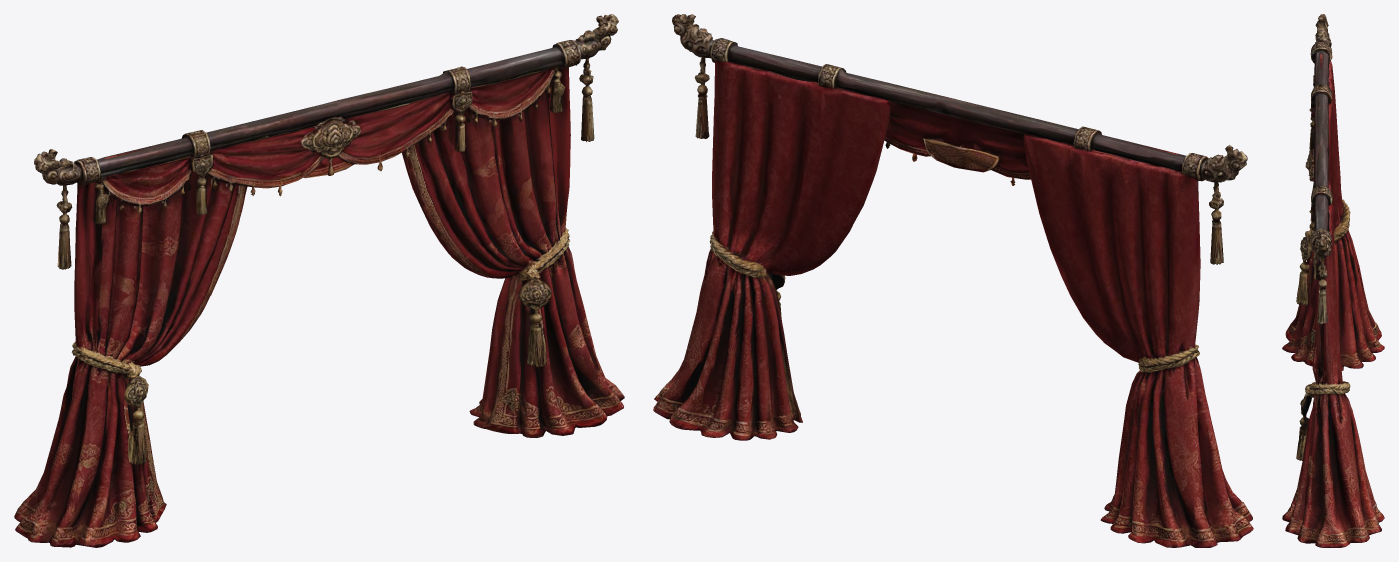
Rendered from curtain.glb.
The picture shows the model from 3 angles, left to right: view 1: azimuth 30°, elevation 25°; view 2: azimuth 150°, elevation 25°; view 3: azimuth 270°, elevation 25°; orthographic projection. The views are drawn at different scales.
Visible parts, largest first — view 1: tripo_node_eba18f53-8707-40f1-8a62-4a77f2cd9b33; view 2: tripo_node_eba18f53-8707-40f1-8a62-4a77f2cd9b33; view 3: tripo_node_eba18f53-8707-40f1-8a62-4a77f2cd9b33.
Part boxes in pixels (x1=…): tripo_node_eba18f53-8707-40f1-8a62-4a77f2cd9b33: x1=14, y1=14, x2=624, y2=547; tripo_node_eba18f53-8707-40f1-8a62-4a77f2cd9b33: x1=653, y1=14, x2=1253, y2=547; tripo_node_eba18f53-8707-40f1-8a62-4a77f2cd9b33: x1=1282, y1=14, x2=1384, y2=547.
Bounding box in the file's own units: 0.9816 × 0.6143 × 0.1841.
1 material, 1 textured.
